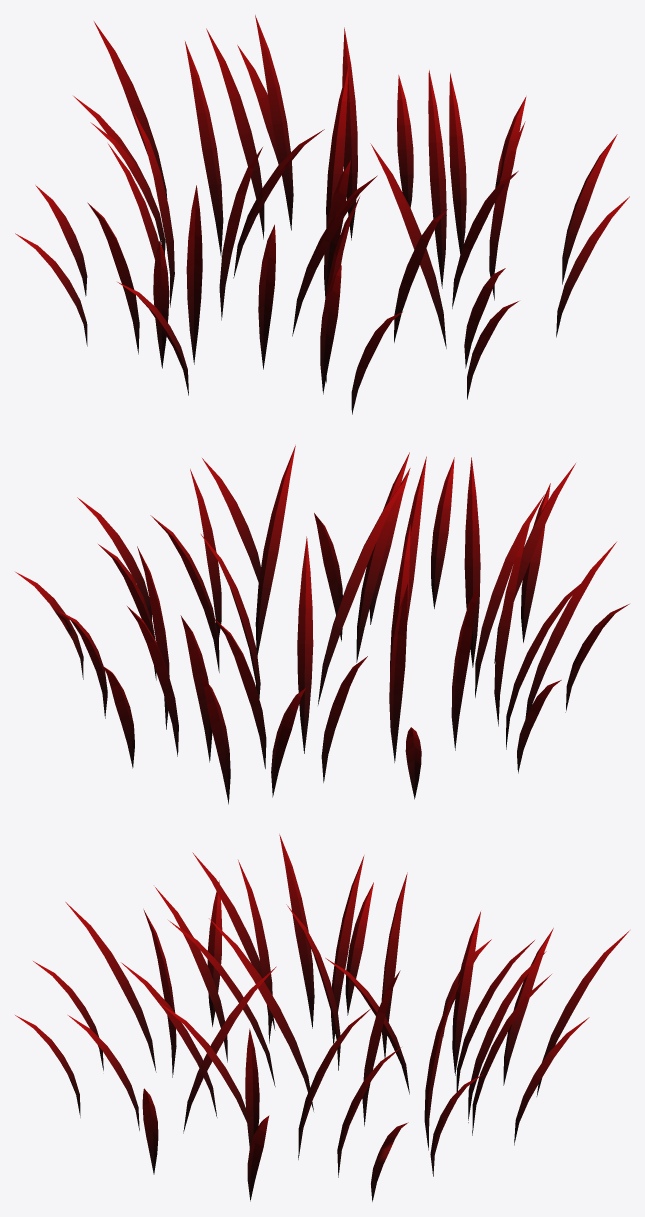
The model's file is grass1.fbx.
The picture shows the model from 3 angles, top to bottom: view 1: azimuth 30°, elevation 25°; view 2: azimuth 150°, elevation 25°; view 3: azimuth 270°, elevation 25°; orthographic projection. The views are drawn at different scales.
Parts seen in each view (by area): view 1: Grass; view 2: Grass; view 3: Grass.
Part boxes in pixels (<box>): Grass: <box>15,15,629,414</box>; Grass: <box>15,445,629,804</box>; Grass: <box>15,834,629,1201</box>.
Size of the model in its own units: 342 by 120 by 370.
